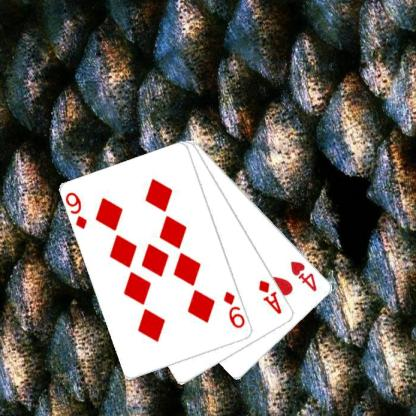4H: (288, 258, 319, 293)
9D: (220, 289, 246, 330), (63, 189, 88, 231)
AD: (256, 277, 283, 316)
